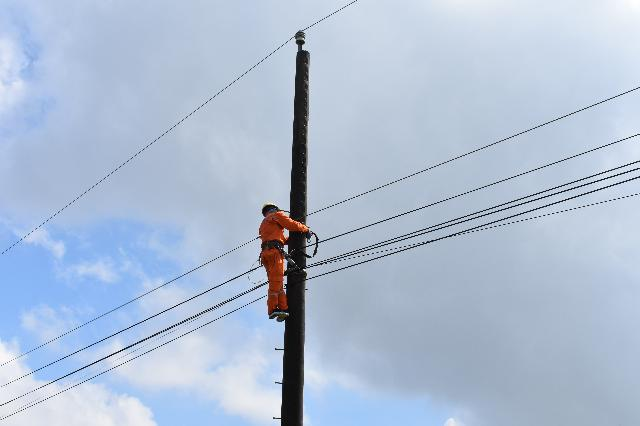gloves: (303, 226, 321, 246)
harness: (251, 240, 291, 252)
helmet: (258, 199, 284, 217)
shoes: (277, 307, 289, 325), (266, 308, 282, 319)
